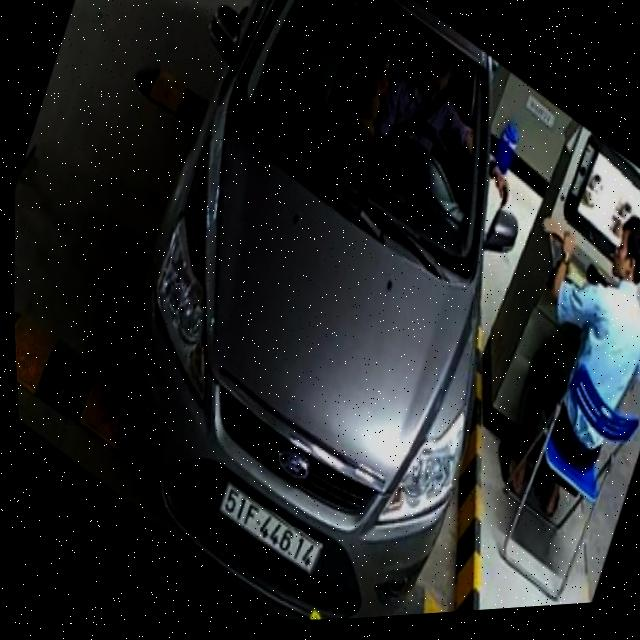car: (86, 0, 550, 634)
plate: (211, 472, 330, 583)
